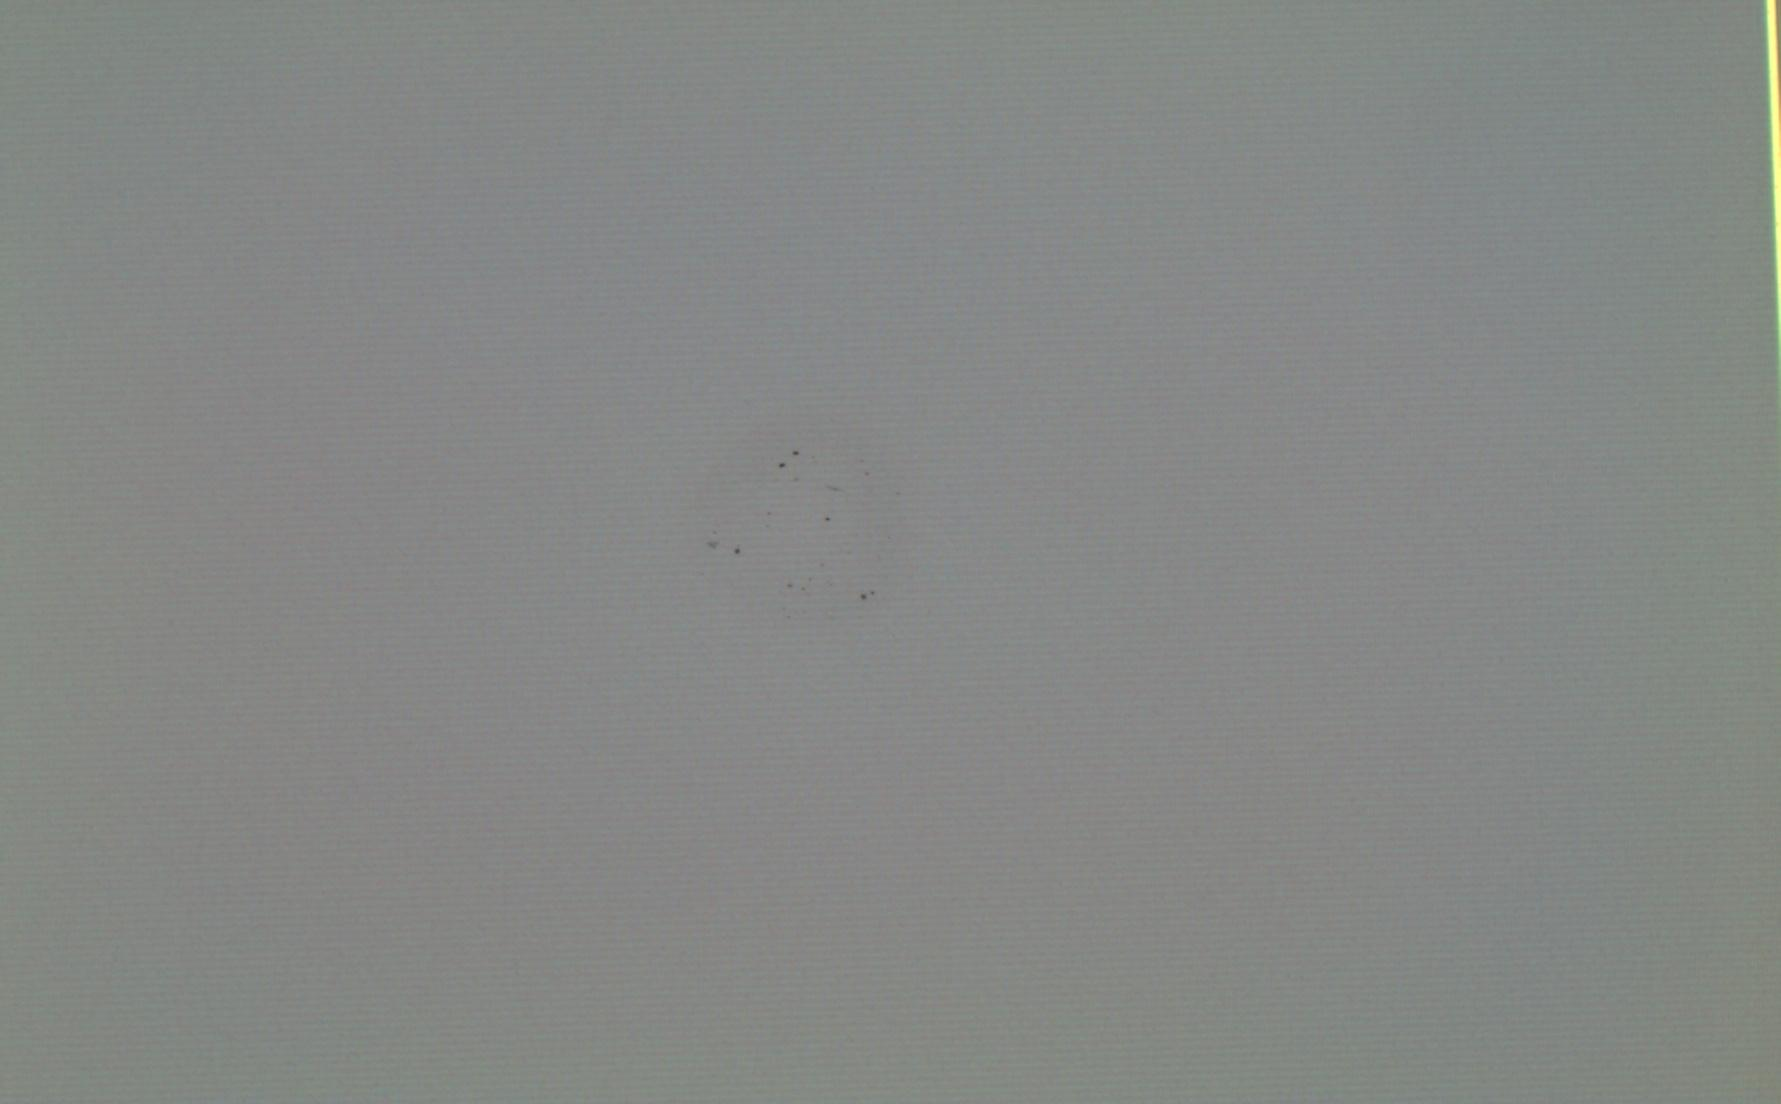PIQ PARTICLE: (691, 410, 917, 632)
